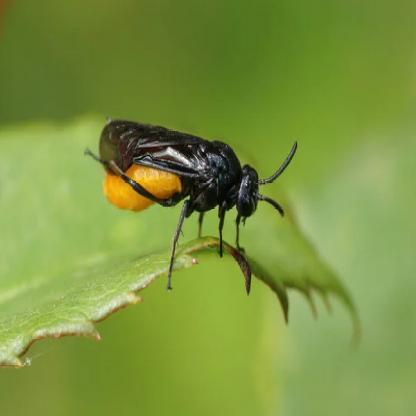sawfly: (85, 113, 297, 283)
